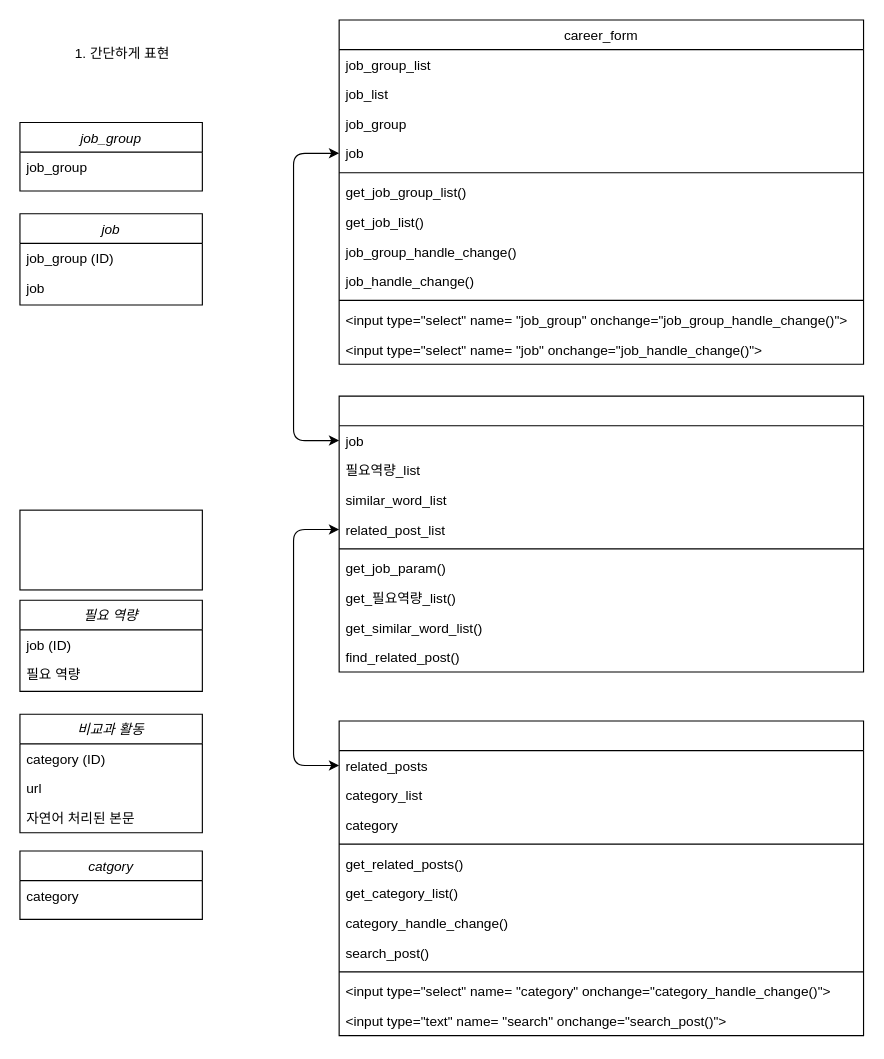
The diagram is 884 pixels wide and 1059 high, and some of its shapes have lost their labels. The shapes that lost their labels are listed below. From the top down, each one's box as (x1, y1, x2, y2) in pixels, then its label:
(19, 509, 202, 590): word web
(338, 395, 864, 672): recommender_system
(338, 720, 864, 1036): result
